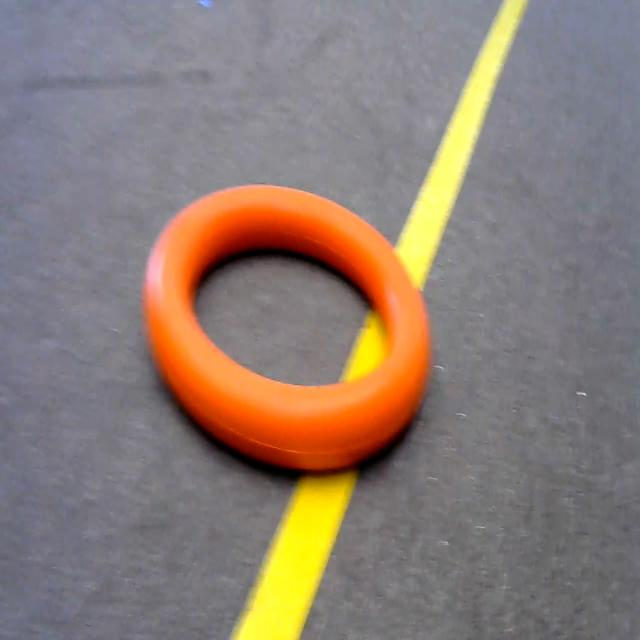note: (131, 153, 457, 485)
